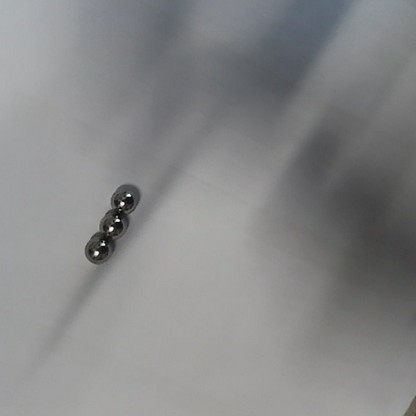ironball: (82, 234, 114, 266), (99, 209, 129, 238), (108, 185, 136, 211)
